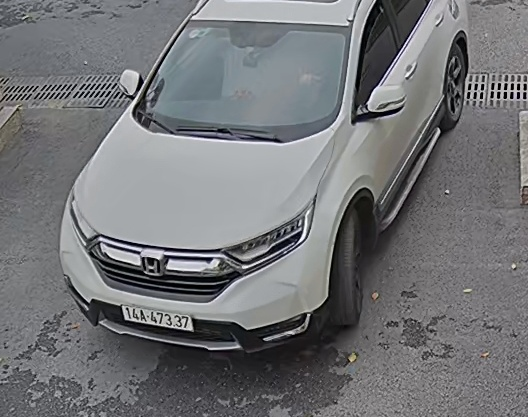vehicle plate: (115, 303, 197, 332)
